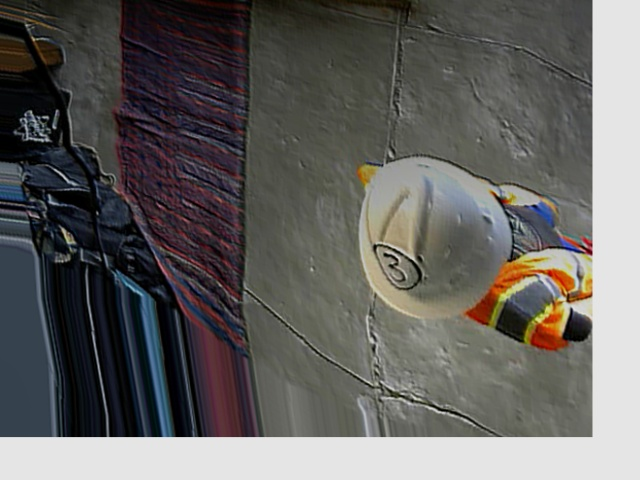three: (369, 238, 424, 291)
